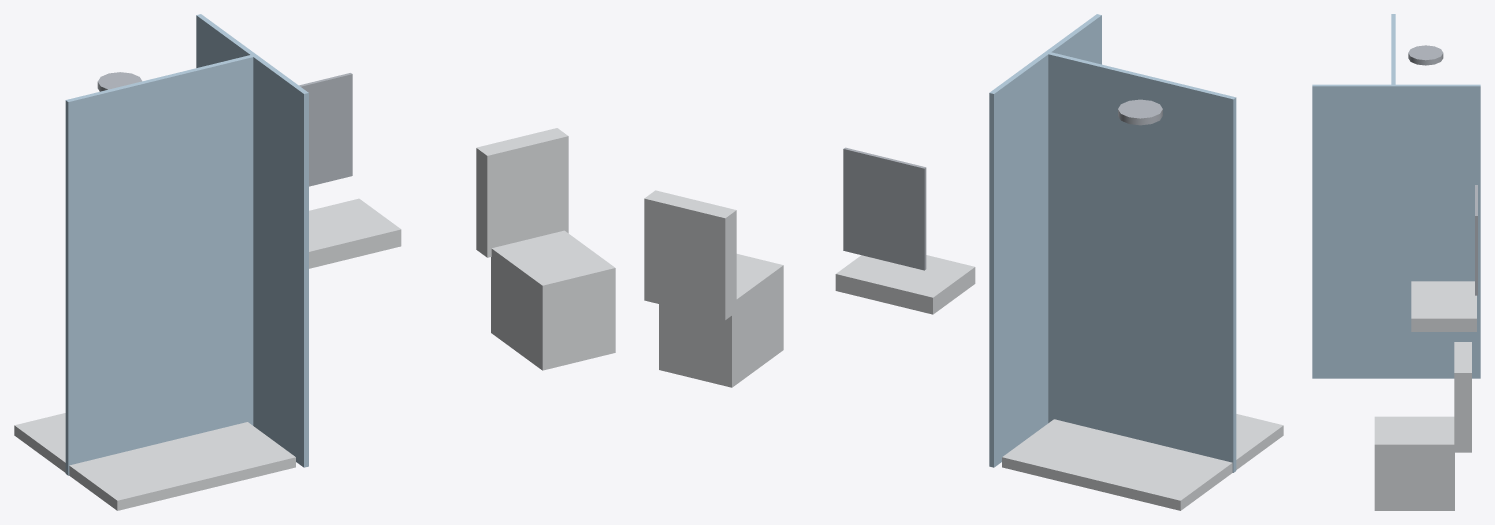
Rendered from hygiene.glb.
3 views of the same model, side by side, from view 1: azimuth 30°, elevation 25°; view 2: azimuth 150°, elevation 25°; view 3: azimuth 270°, elevation 25° (orthographic). The views are drawn at different scales.
Parts seen in each view (by area): view 1: glass, white_plastic, metal; view 2: glass, white_plastic, metal; view 3: glass, white_plastic, metal.
Part boxes in pixels (x1=…): glass: x1=65, y1=14, x2=308, y2=475; white_plastic: x1=14, y1=128, x2=615, y2=510; metal: x1=97, y1=72, x2=352, y2=186; glass: x1=989, y1=14, x2=1236, y2=472; white_plastic: x1=644, y1=190, x2=1283, y2=510; metal: x1=843, y1=99, x2=1162, y2=270; glass: x1=1312, y1=14, x2=1480, y2=378; white_plastic: x1=1374, y1=281, x2=1476, y2=510; metal: x1=1408, y1=45, x2=1477, y2=295.
Bounding box in the file's own units: 3.33 × 2.2 × 1.15.
